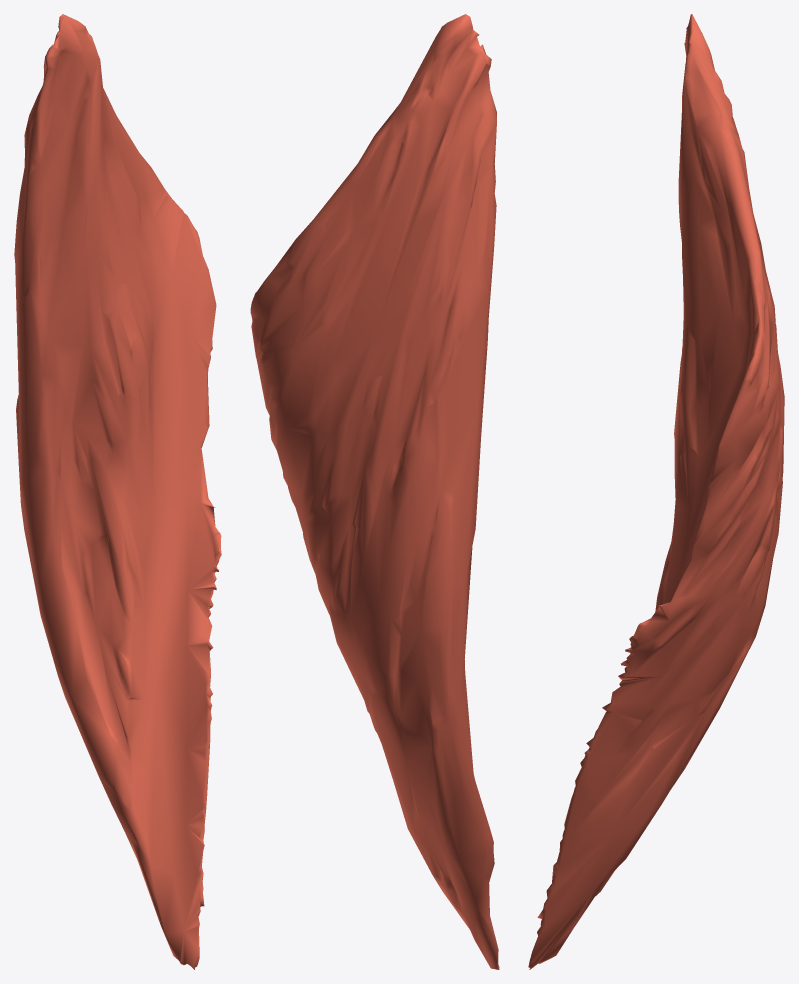
File: anconeus.glb
3 renders of one model, left to right at view 1: azimuth 30°, elevation 25°; view 2: azimuth 150°, elevation 25°; view 3: azimuth 270°, elevation 25°, orthographic. The views are drawn at different scales.
Parts seen in each view (by area): view 1: Anconeus muscle.r; view 2: Anconeus muscle.r; view 3: Anconeus muscle.r.
Boxes of the visible parts, x1,y1,x2,y2 form: Anconeus muscle.r: (14,14,221,969); Anconeus muscle.r: (250,14,499,969); Anconeus muscle.r: (528,14,784,969).
Size of the model in its own units: 0.0238 by 0.1047 by 0.0262.
